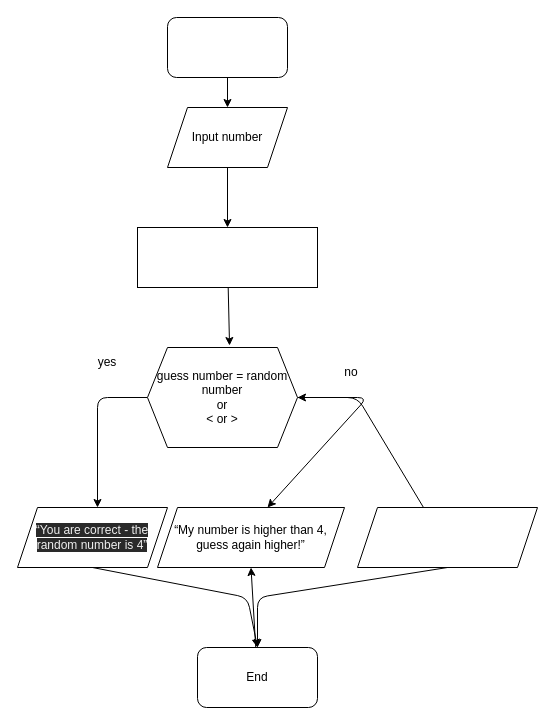
Some shapes in this 555 by 725 pixel diagram are drawn without their labels. The shapes that lost their labels are listed below. From the top down, each one's centre as x and y in pixels, then its label:
At (x=227, y=47): "Start".
At (x=227, y=257): "number = random number (1-N)".
At (x=447, y=537): "“My number is lower than 4, guess again lower!”".
